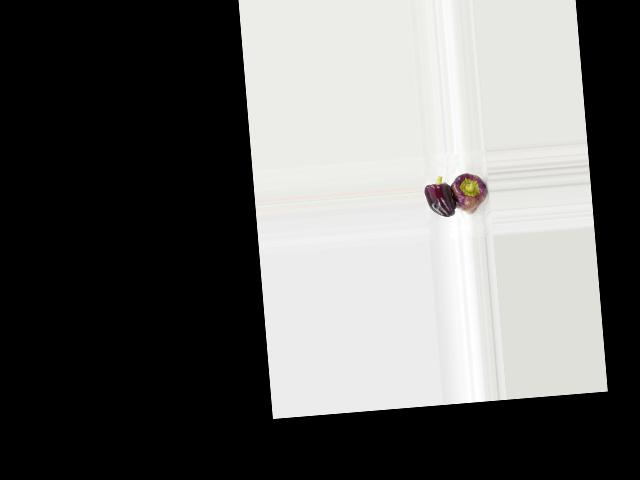bell_pepper: (448, 163, 490, 222)
